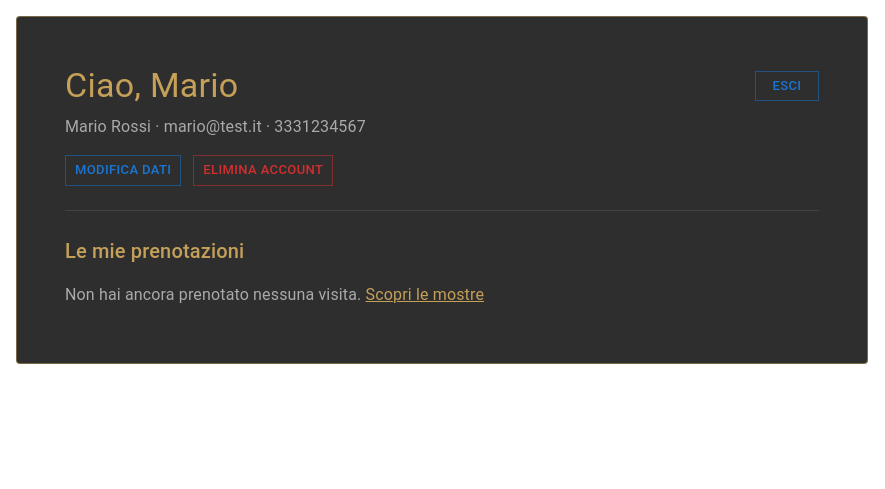
Test: AreaPersonale: gestione dell'account › modifica nome, cognome e telefono e aggiorna la sessione
Click the button "Modifica dati": {"x": 123, "y": 170} [65,155,181,186]
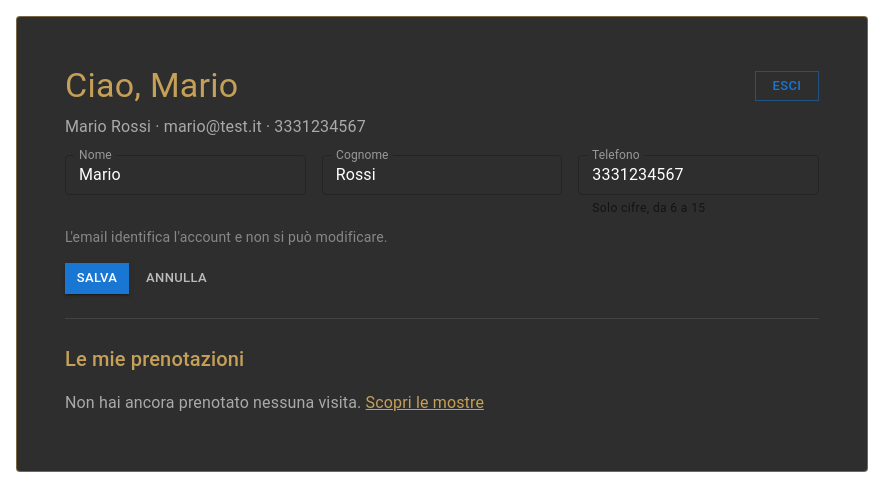
Replace the text in the field labelled "Cognome" with "Bianchi": {"x": 442, "y": 175} [322,155,562,195]
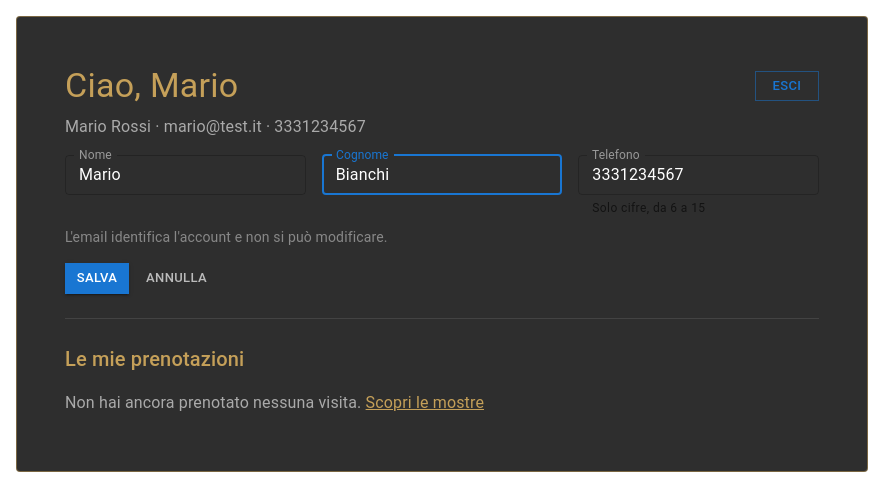
Replace the text in the field labelled "Telefono" with "3339876543": {"x": 699, "y": 175} [578,155,819,195]
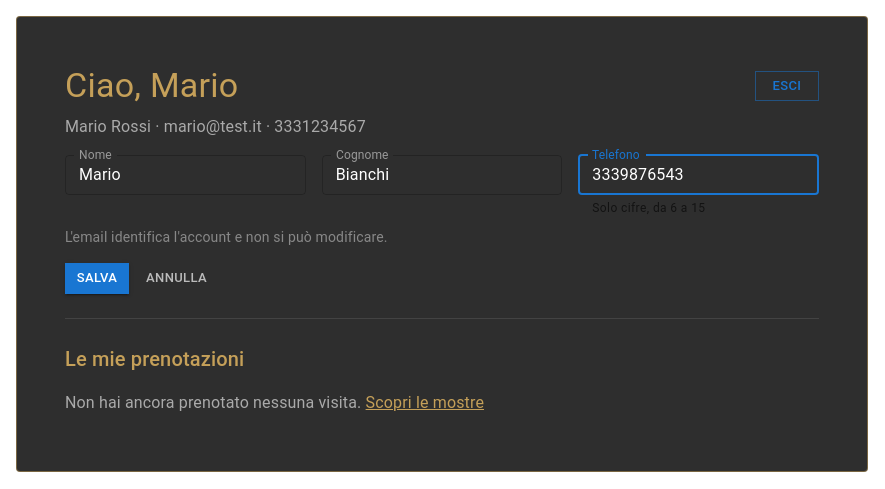
Click the button "Salva": {"x": 97, "y": 278} [65,263,129,294]
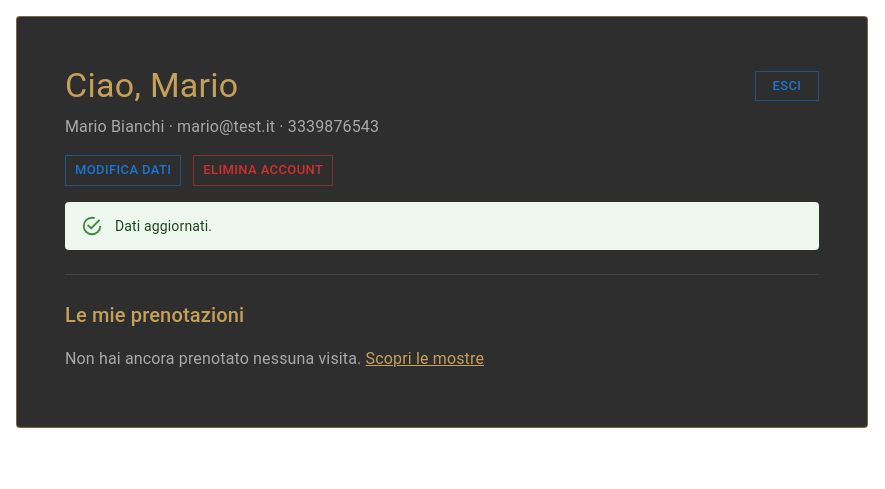
expect the text "Dati aggiornati." is shown: met, box [115,218,212,234]
expect the text "Mario Bianchi · mario@test.it · 3339876543" is shown: met, box [65,117,379,136]
